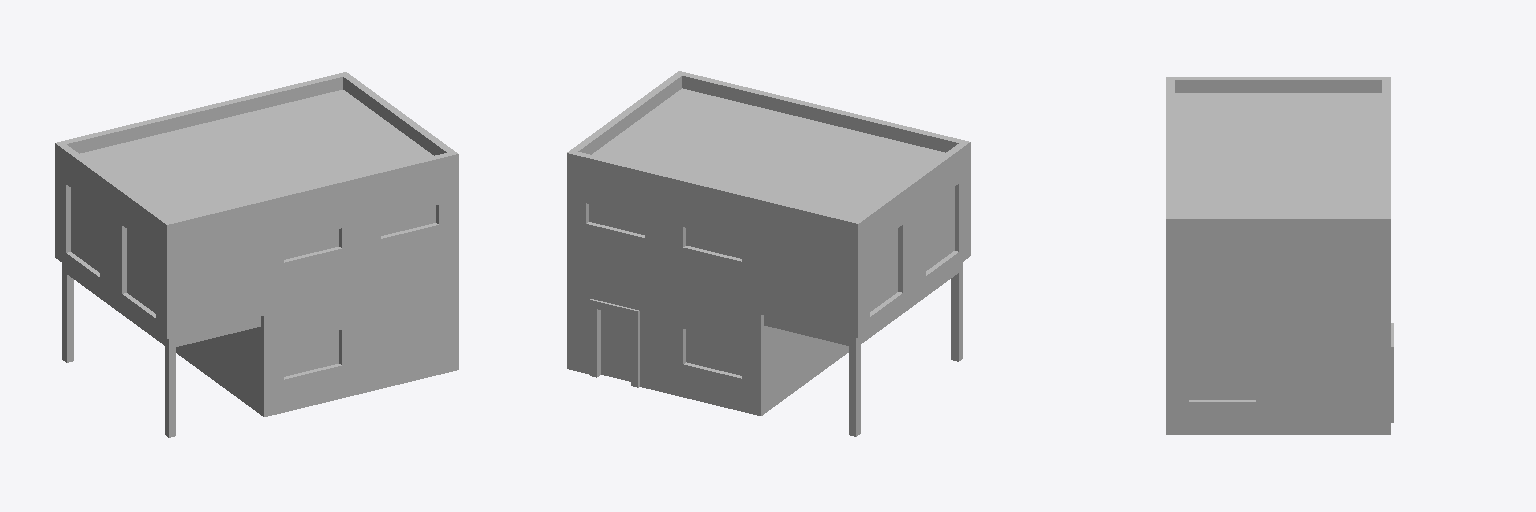
Rendered from house_type20.obj.
3 views of the same model, side by side, from view 1: azimuth 30°, elevation 25°; view 2: azimuth 150°, elevation 25°; view 3: azimuth 270°, elevation 25° (orthographic).
Parts seen in each view (by area): view 1: house_type20; view 2: house_type20; view 3: house_type20.
Part boxes in pixels (left/top/right/bottom): house_type20: left=55, top=72, right=458, bottom=437; house_type20: left=567, top=71, right=970, bottom=436; house_type20: left=1166, top=77, right=1393, bottom=434.
Size of the model in its own units: 1.2 by 0.85 by 0.81.